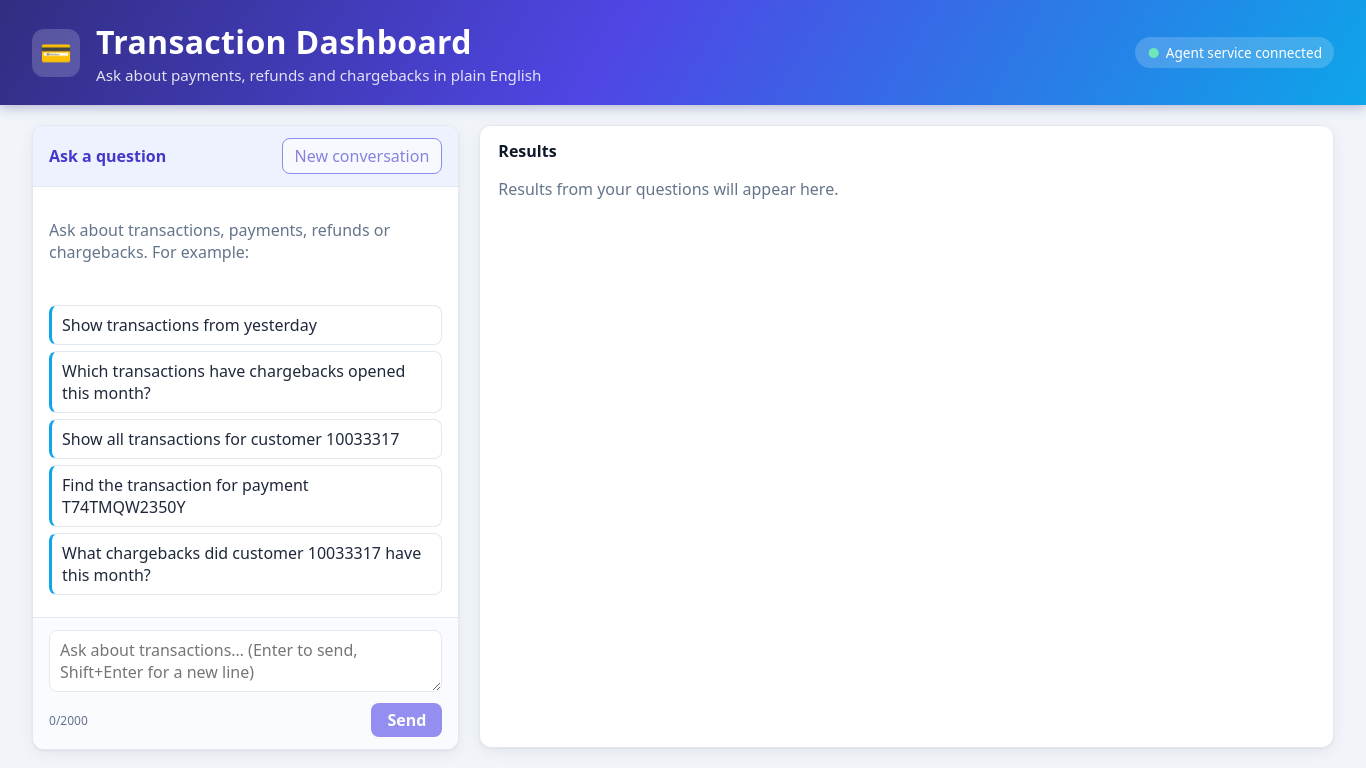
Test: chat panel › offers example questions and answers one when clicked
The image size is (1366, 768).
Click the button "Which transactions have chargebacks opened this month?" at (246, 382), box top-left (49, 351), bottom-right (442, 413)
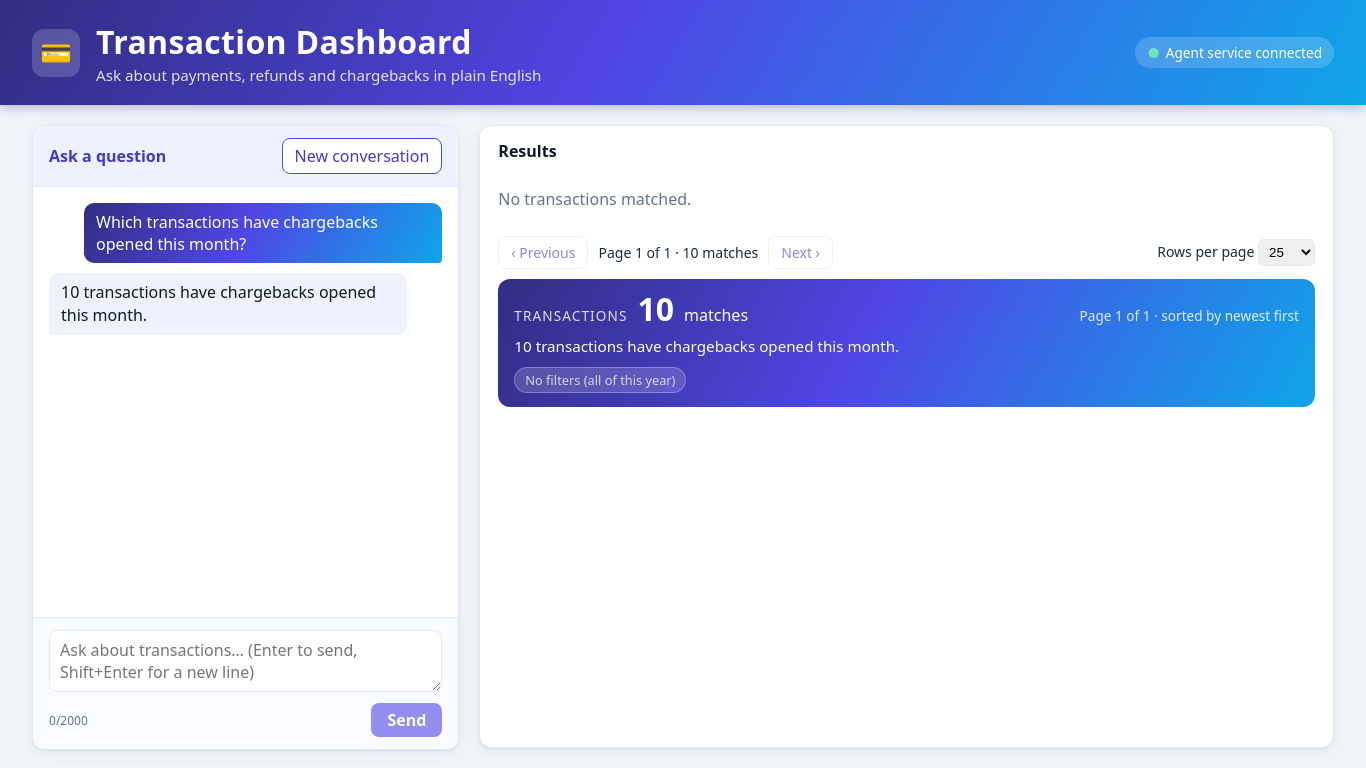
Now the text "Page 1 of 1 · 10 matches" is shown, box top-left (598, 243), bottom-right (758, 262)
